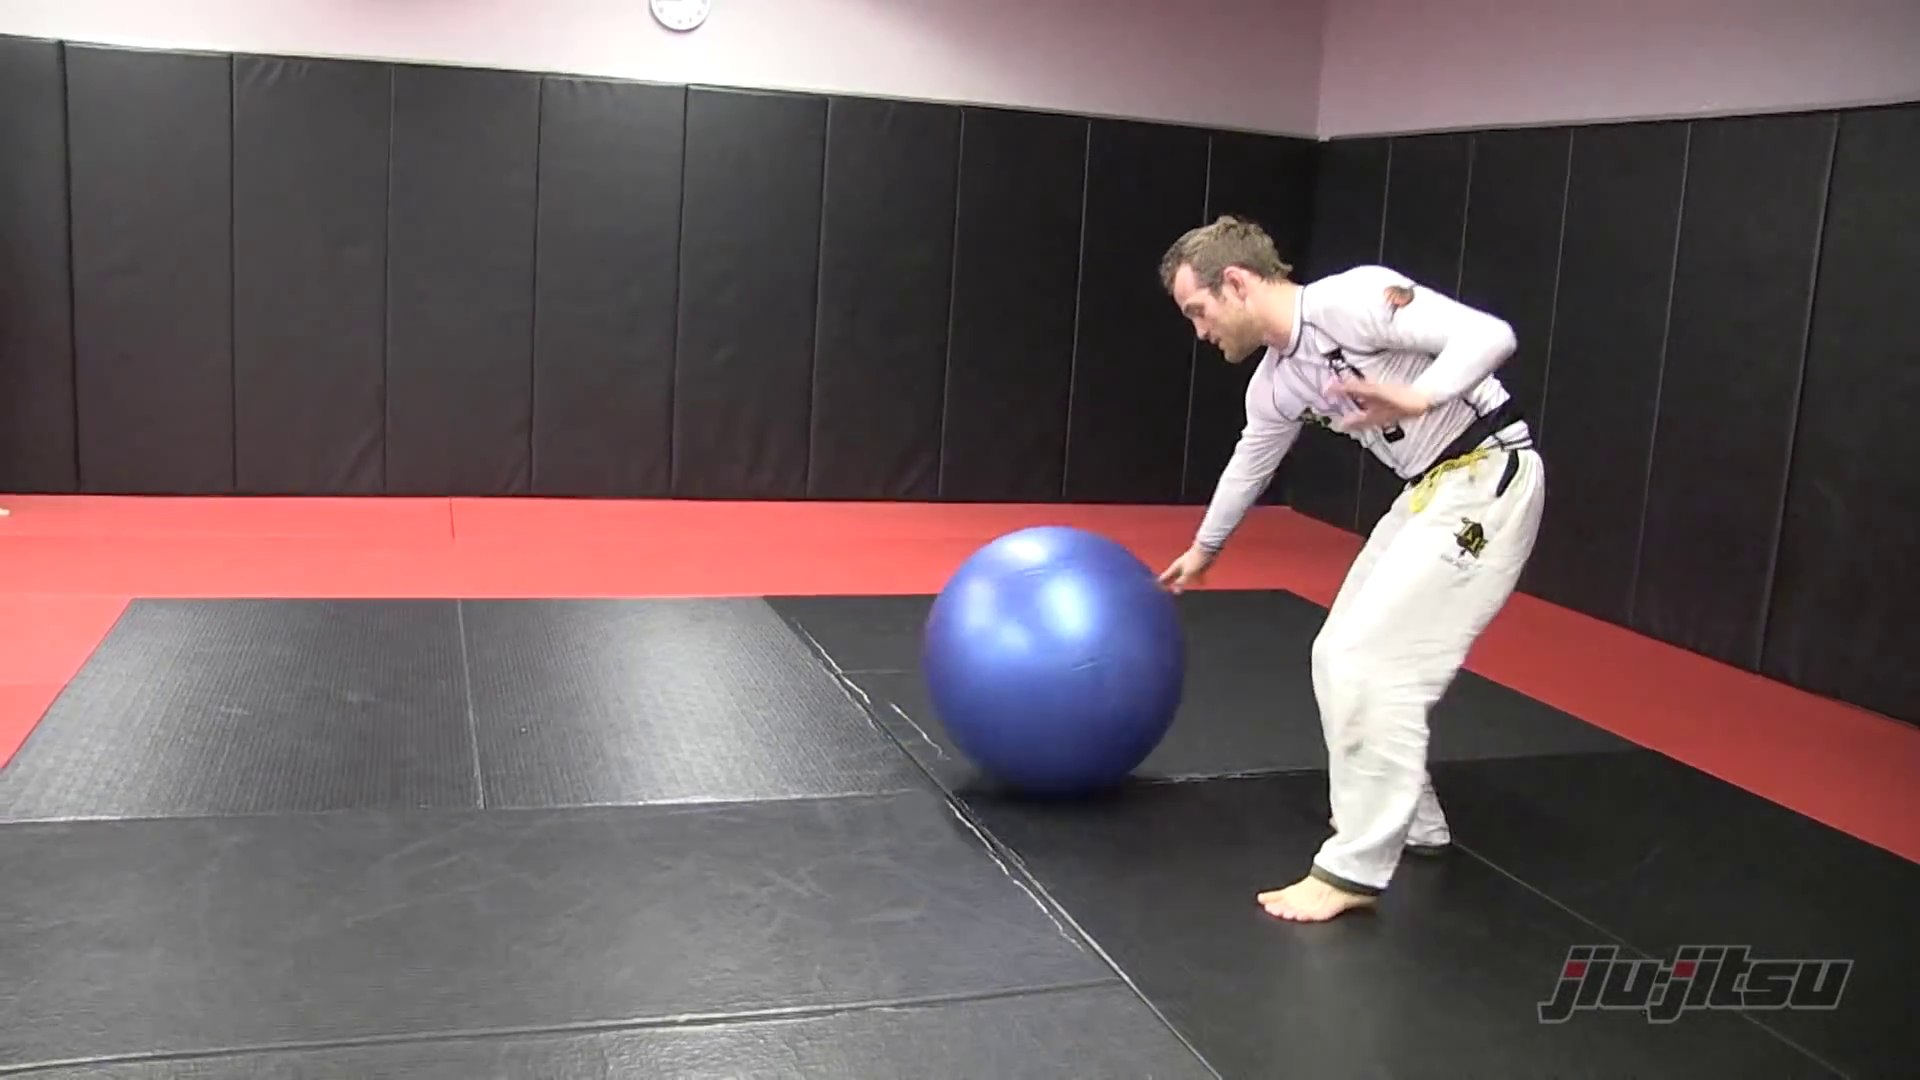yogaball: (919, 512, 1192, 808)
